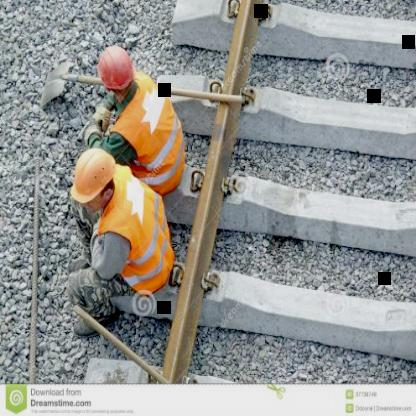helmet: (68, 142, 122, 210), (92, 41, 139, 107)
